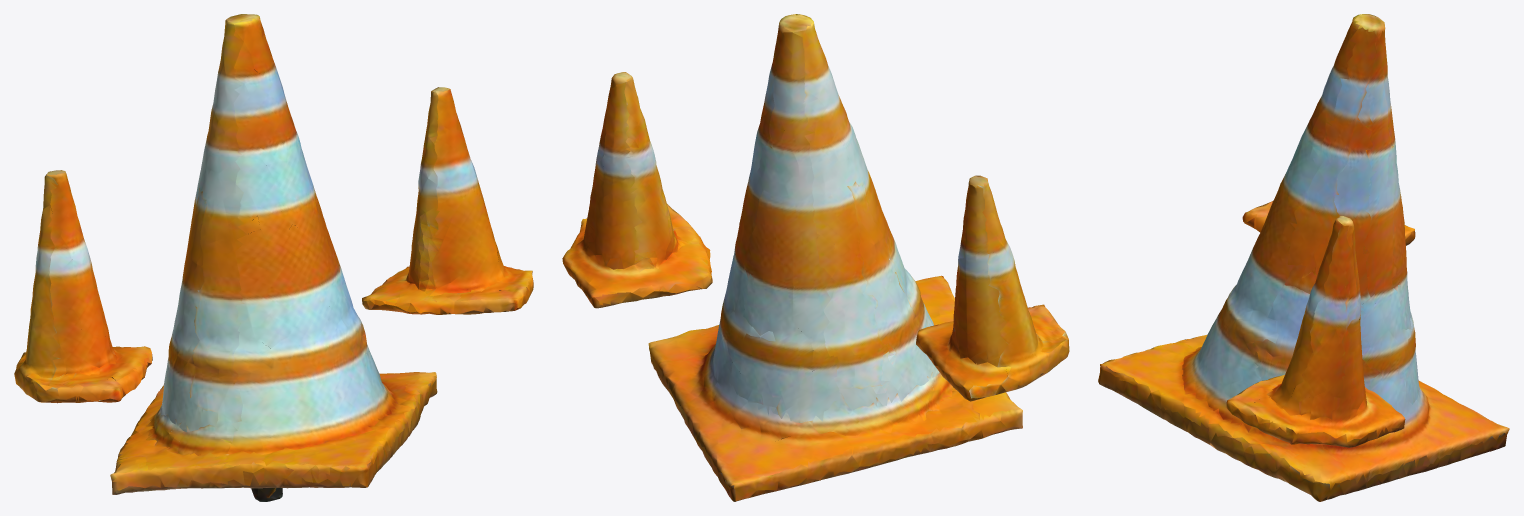
Rendered from traffic-cone.glb.
3 renders of one model, left to right at view 1: azimuth 30°, elevation 25°; view 2: azimuth 150°, elevation 25°; view 3: azimuth 270°, elevation 25°, orthographic.
Visible parts, largest first — view 1: world; view 2: world; view 3: world.
Boxes of the visible parts, <box> form: world: <box>14,14,533,501</box>; world: <box>562,14,1069,501</box>; world: <box>1098,14,1509,501</box>.
Size of the model in its own units: 1.05 by 0.9403 by 0.766.
1 material, 1 textured.
